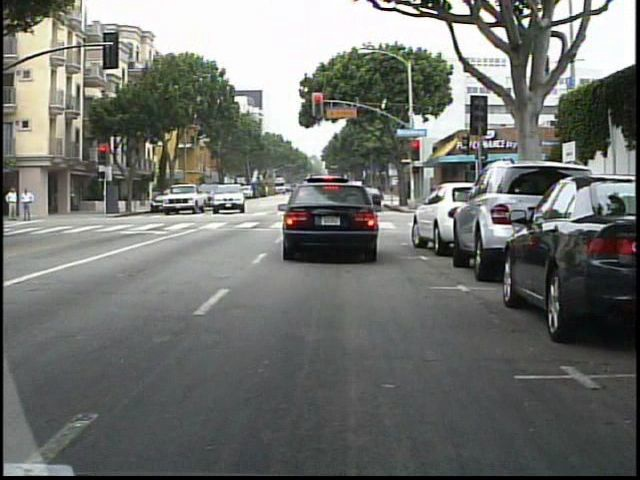person: (20, 185, 38, 224), (6, 185, 22, 225)
